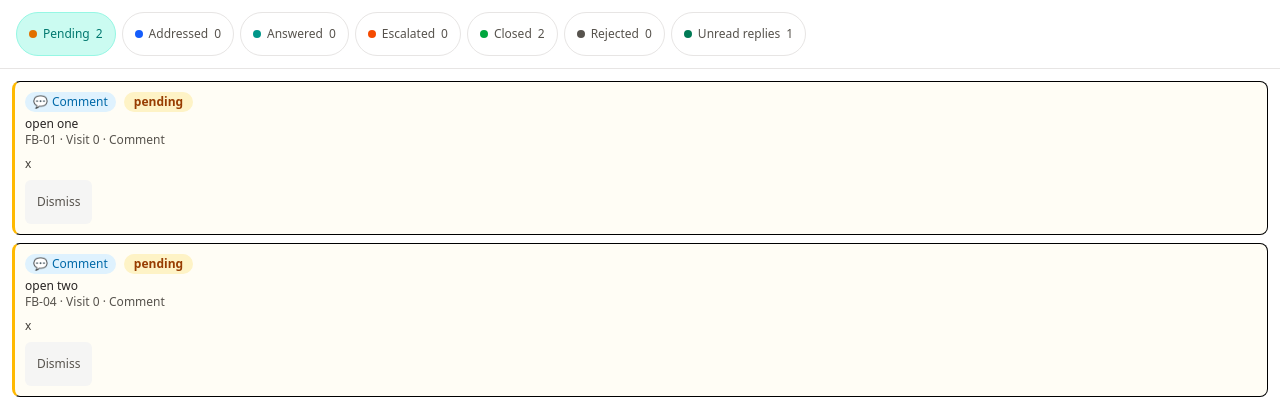
Test: FeedbackPanelBody — closure-reply unread filter chip › toggling the chip overrides the status filter and shows ONLY unread-reply items
Click the button with test id "feedback-unread-reply-filter" at (739, 34), box x1=671 y1=12 x2=806 y2=56
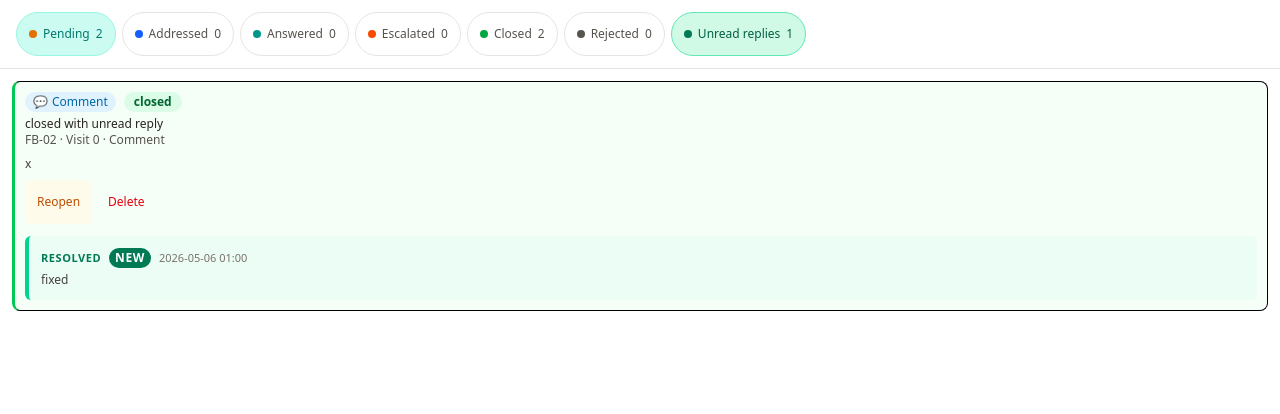
Expected: the text "closed with unread reply" is shown, x1=25 y1=115 x2=163 y2=132
Expected: the button "open one" is gone
Expected: the button "open two" is gone
